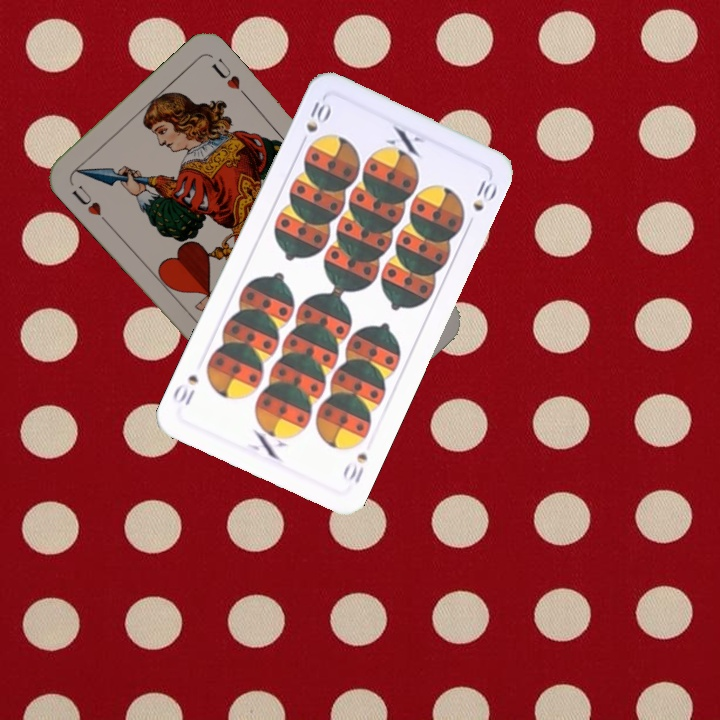HU: (68, 180, 111, 227)
S10: (295, 97, 333, 150), (338, 449, 370, 487)
